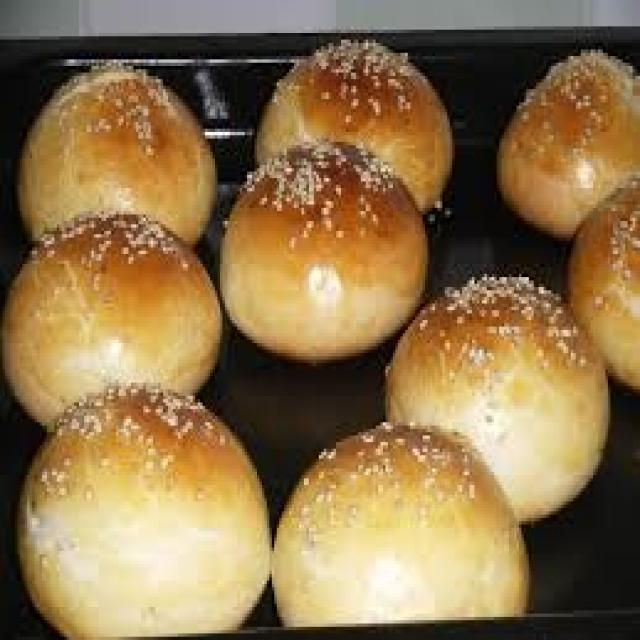organic waste: (12, 380, 270, 634), (383, 264, 608, 515), (267, 416, 529, 624), (0, 208, 217, 429), (215, 132, 425, 360), (15, 59, 215, 251), (250, 36, 450, 211), (492, 43, 638, 241), (561, 172, 637, 386)
